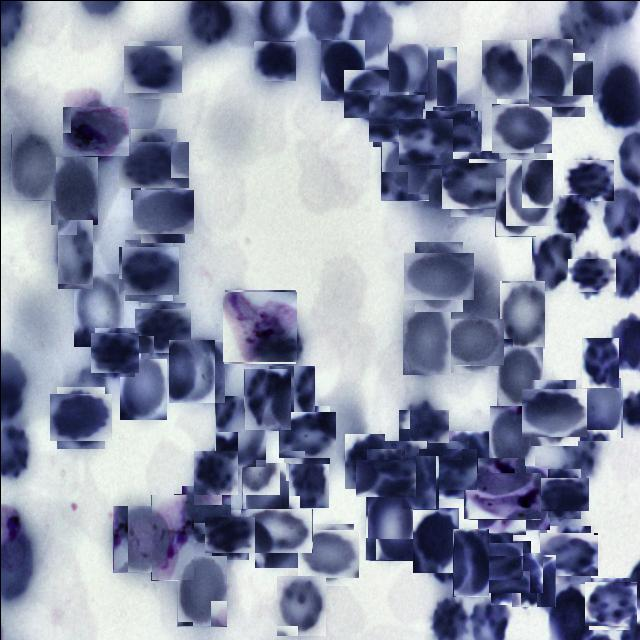red blood cell: (214, 395, 265, 467), (364, 487, 414, 560), (73, 273, 123, 346), (176, 555, 226, 626), (408, 247, 468, 306), (112, 505, 164, 572), (444, 154, 502, 212), (124, 134, 182, 192), (248, 502, 306, 560), (402, 305, 450, 374), (524, 384, 582, 441), (241, 462, 291, 528), (347, 65, 404, 122), (504, 159, 552, 226), (50, 156, 97, 224), (498, 280, 544, 349), (300, 526, 356, 582), (574, 376, 622, 441), (119, 353, 166, 419), (275, 575, 325, 636), (533, 56, 588, 111), (494, 100, 548, 156), (10, 133, 55, 200), (406, 46, 456, 106), (412, 507, 458, 572), (446, 315, 501, 369), (53, 390, 108, 444), (268, 365, 314, 429), (121, 242, 175, 296), (243, 368, 290, 430), (490, 405, 536, 468), (168, 339, 214, 402), (380, 140, 428, 200), (504, 465, 549, 529), (445, 430, 488, 496), (125, 42, 178, 95), (319, 39, 364, 101), (136, 185, 188, 238), (496, 346, 542, 405), (482, 39, 528, 98), (542, 528, 594, 580), (280, 408, 332, 460), (484, 546, 536, 598), (370, 92, 422, 144), (532, 232, 576, 290), (56, 219, 92, 289), (138, 305, 188, 355), (400, 116, 450, 166), (422, 444, 472, 494), (494, 177, 536, 236), (428, 106, 478, 155), (360, 453, 410, 502), (452, 528, 488, 596), (530, 38, 572, 96), (382, 440, 427, 494), (177, 489, 226, 538), (586, 578, 634, 628), (510, 554, 555, 607), (288, 448, 328, 507), (188, 339, 225, 402), (469, 537, 517, 585), (344, 433, 384, 488), (564, 156, 610, 202), (400, 455, 438, 509), (92, 329, 136, 374), (387, 43, 427, 92), (193, 450, 237, 494), (208, 512, 251, 556), (581, 337, 618, 387), (550, 194, 590, 240), (542, 472, 584, 514), (402, 405, 444, 447), (253, 40, 294, 81), (571, 254, 611, 295)
trophozoite: (223, 290, 296, 362), (470, 464, 532, 526), (150, 494, 193, 580), (66, 102, 124, 160)
